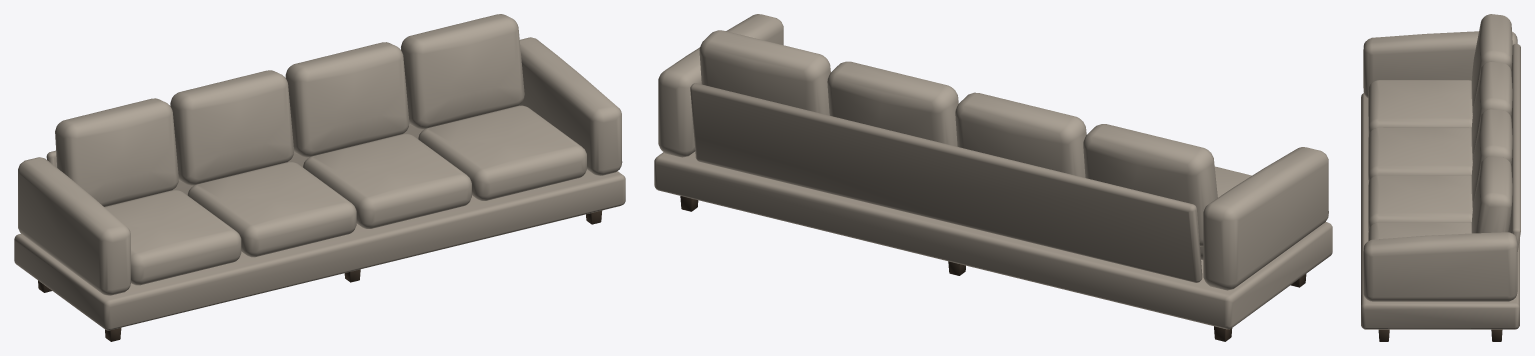
Rendered from sofa-4-seater.glb.
3 views of the same model, side by side, from view 1: azimuth 30°, elevation 25°; view 2: azimuth 150°, elevation 25°; view 3: azimuth 270°, elevation 25° (orthographic). The views are drawn at different scales.
Parts seen in each view (by area): view 1: EQ_Mobile_sofa-4-seater_Upholstery, EQ_Mobile_sofa-4-seater_OakStructure; view 2: EQ_Mobile_sofa-4-seater_Upholstery, EQ_Mobile_sofa-4-seater_OakStructure; view 3: EQ_Mobile_sofa-4-seater_Upholstery, EQ_Mobile_sofa-4-seater_OakStructure.
Part boxes in pixels (left/top/right/bottom): EQ_Mobile_sofa-4-seater_Upholstery: left=14, top=14, right=625, bottom=330; EQ_Mobile_sofa-4-seater_OakStructure: left=38, top=210, right=602, bottom=341; EQ_Mobile_sofa-4-seater_Upholstery: left=654, top=14, right=1332, bottom=329; EQ_Mobile_sofa-4-seater_OakStructure: left=680, top=196, right=1306, bottom=341; EQ_Mobile_sofa-4-seater_Upholstery: left=1361, top=14, right=1520, bottom=329; EQ_Mobile_sofa-4-seater_OakStructure: left=1378, top=329, right=1502, bottom=341.
Size of the model in its own units: 3.07 by 0.9159 by 0.9639.
